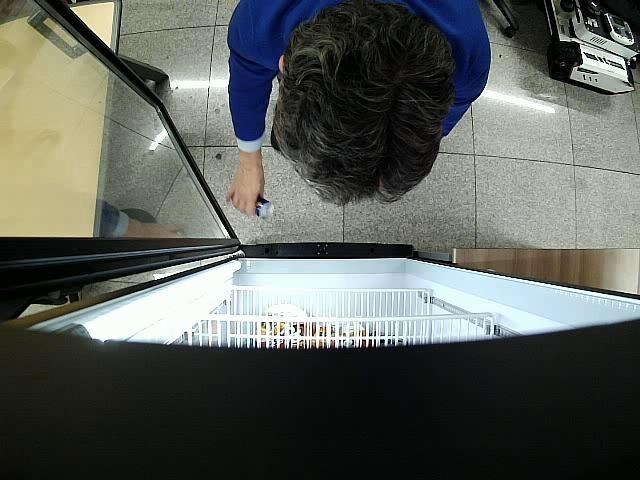16_hot6: (254, 194, 271, 219)
